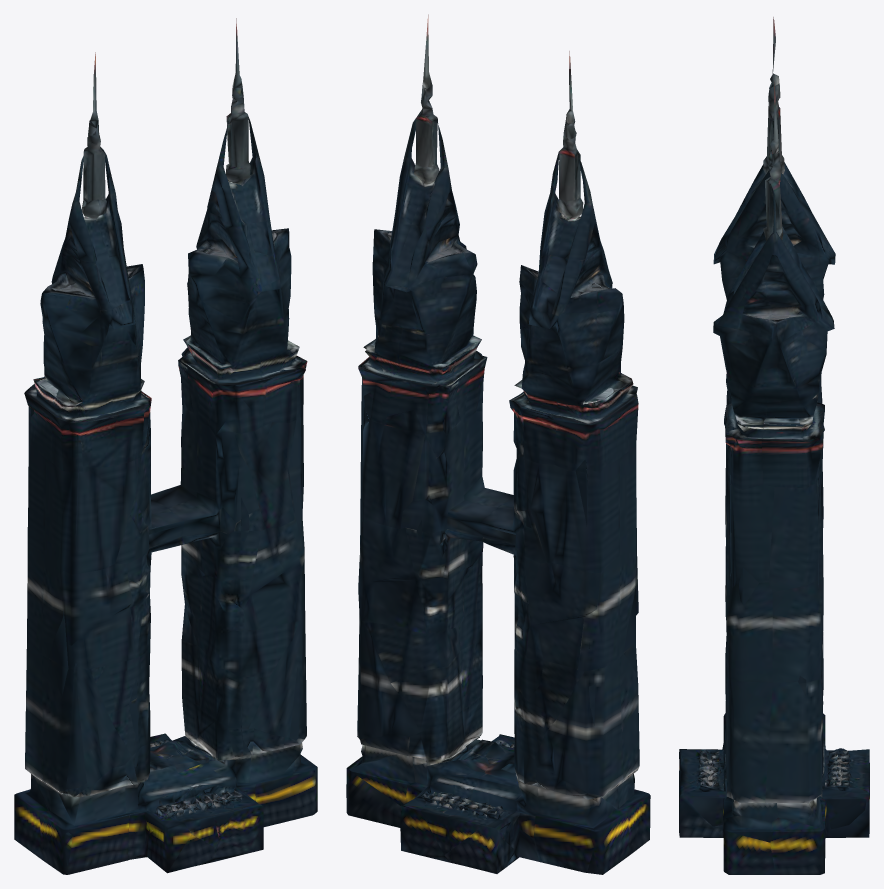
The model's file is tower_c_p.glb.
3 views of the same model, side by side, from view 1: azimuth 30°, elevation 25°; view 2: azimuth 150°, elevation 25°; view 3: azimuth 270°, elevation 25° (orthographic). The views are drawn at different scales.
Size of the model in its own units: 0.6405 by 1.9 by 0.4278.
Materials: 1 (1 with a texture image).
